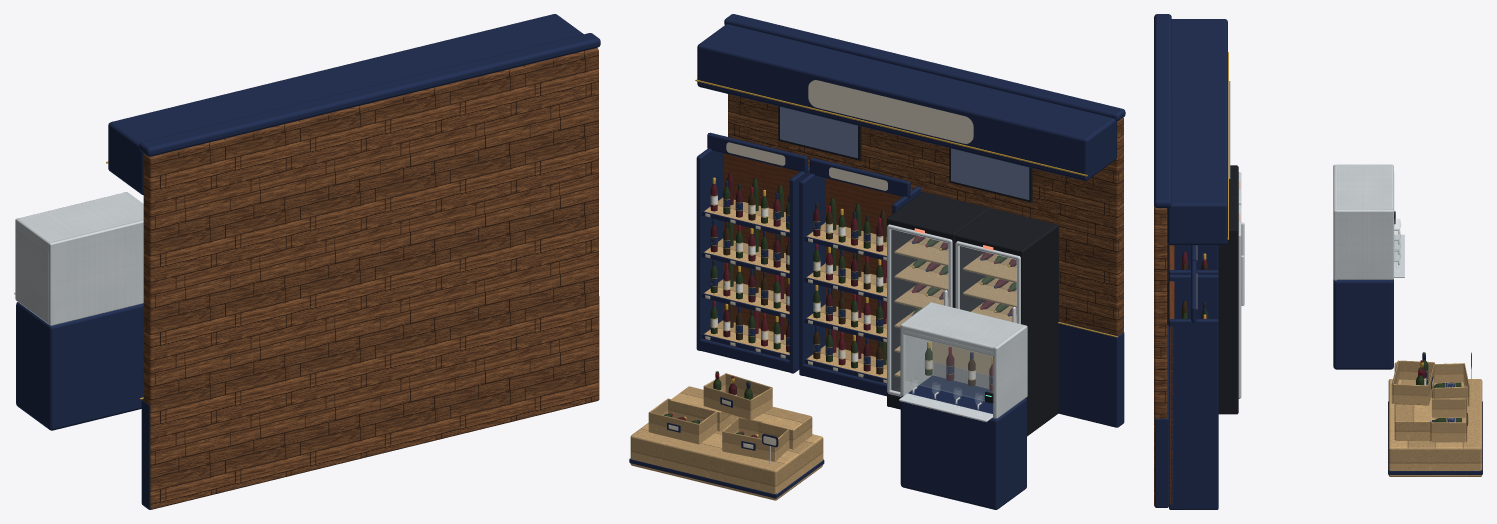
Rendered from sector-adega_T3.fbx.
3 views of the same model, side by side, from view 1: azimuth 30°, elevation 25°; view 2: azimuth 150°, elevation 25°; view 3: azimuth 270°, elevation 25° (orthographic). The views are drawn at different scales.
Visible parts, largest first — view 1: Body; view 2: Body; view 3: Body.
Part boxes in pixels (x1=…): Body: x1=14, y1=14, x2=600, y2=509; Body: x1=629, y1=14, x2=1125, y2=509; Body: x1=1154, y1=14, x2=1482, y2=509.
Size of the model in its own units: 4.08 by 3.08 by 2.98.
